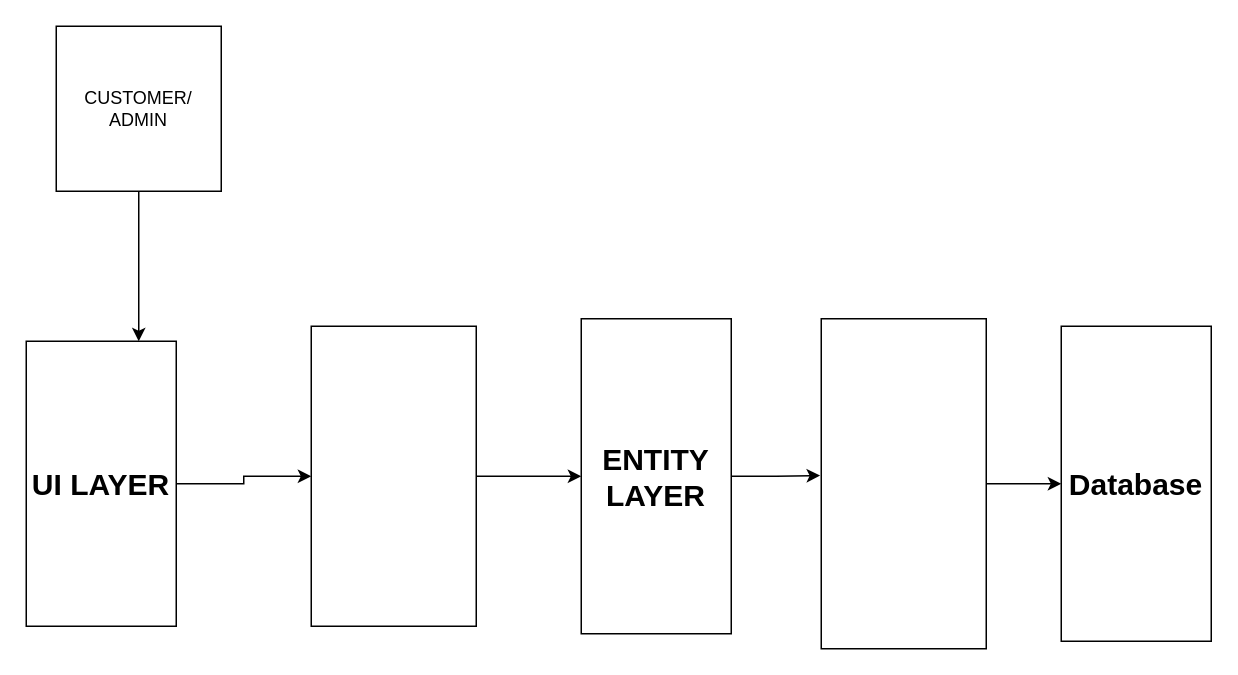
This 1238x675 diagram has some shape labels left out. Each missing label, with the centre of its shape:
"REPOSITORY LAYER" belongs at (903,483).
"SERVICE LAYER" belongs at (393,475).
